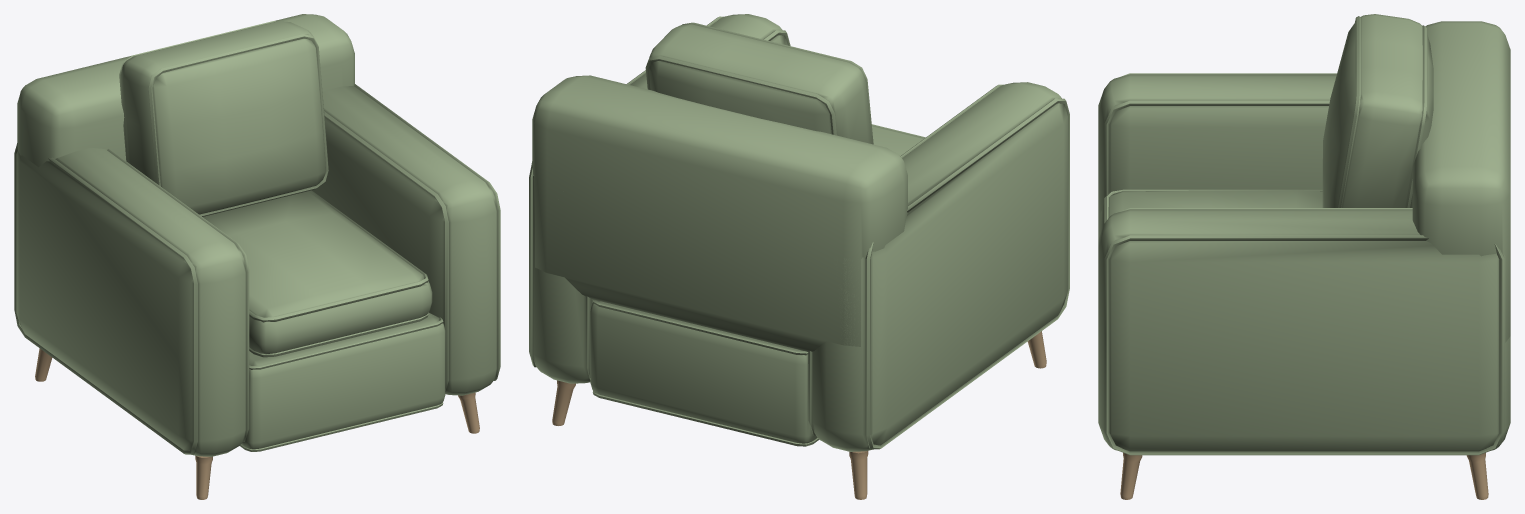
File: armchairLounge.glb
3 renders of one model, left to right at view 1: azimuth 30°, elevation 25°; view 2: azimuth 150°, elevation 25°; view 3: azimuth 270°, elevation 25°, orthographic. The views are drawn at different scales.
Parts seen in each view (by area): view 1: sofa, seat; view 2: sofa, seat; view 3: sofa, seat.
Boxes of the visible parts, left/top/right/bottom form: sofa: left=14, top=14, right=500, bottom=499; seat: left=203, top=190, right=432, bottom=357; sofa: left=529, top=14, right=1069, bottom=499; seat: left=871, top=124, right=925, bottom=155; sofa: left=1098, top=14, right=1510, bottom=499; seat: left=1100, top=189, right=1322, bottom=232.
Bounding box in the file's own units: 0.82 × 0.8331 × 0.84.
